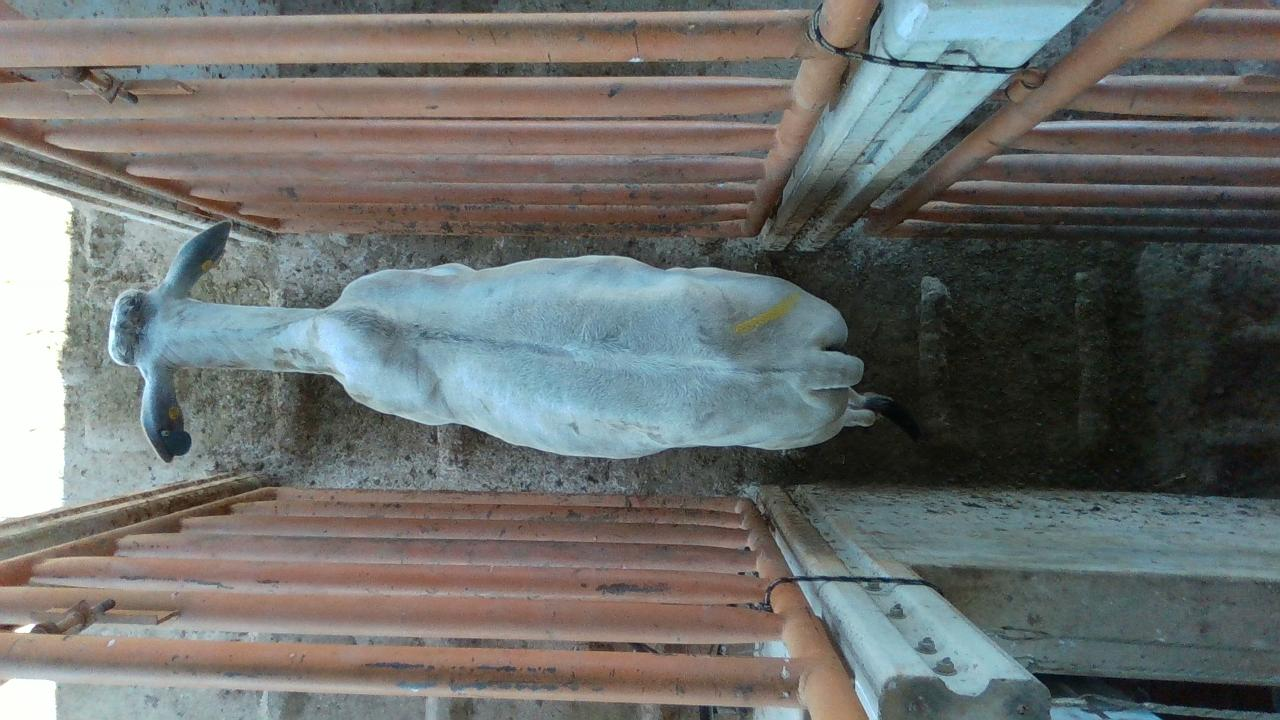cattle: (106, 218, 922, 462)
